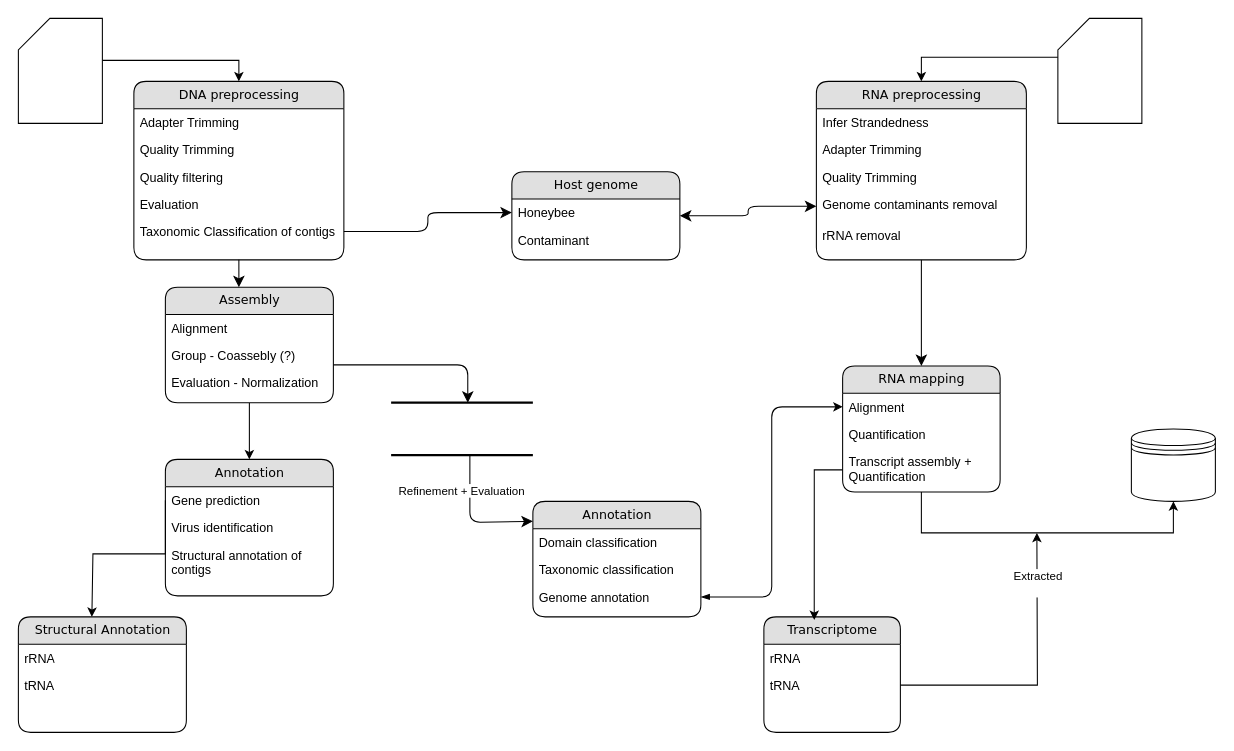
Some shapes in this 1234 by 751 pixel diagram are drawn without their labels. The shapes that lost their labels are listed below. From the top down, each one's centre as x and y in pixels, then its label:
the point at 59,70: DNA long reads
the point at 1099,70: RNA reads
the point at 461,428: Binning
the point at 1172,464: Transmissible RNA
